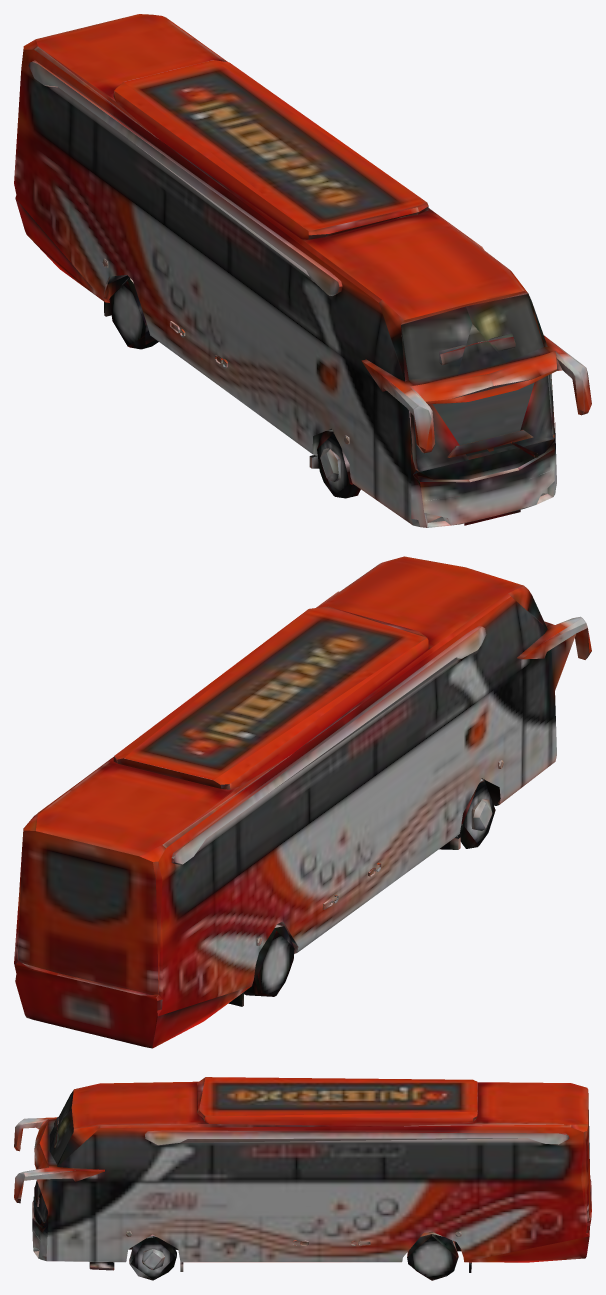
File: bus_lod2.glb
The picture shows the model from 3 angles, top to bottom: view 1: azimuth 30°, elevation 25°; view 2: azimuth 150°, elevation 25°; view 3: azimuth 270°, elevation 25°; orthographic projection. The views are drawn at different scales.
Visible parts, largest first — view 1: tripo_node_f4d65705; view 2: tripo_node_f4d65705; view 3: tripo_node_f4d65705.
Boxes of the visible parts, x1=… form: tripo_node_f4d65705: x1=14, y1=14, x2=591, y2=527; tripo_node_f4d65705: x1=14, y1=556, x2=591, y2=1048; tripo_node_f4d65705: x1=14, y1=1077, x2=591, y2=1280.
Size of the model in its own units: 23.74 by 30.83 by 99.9.
1 material, 1 textured.
